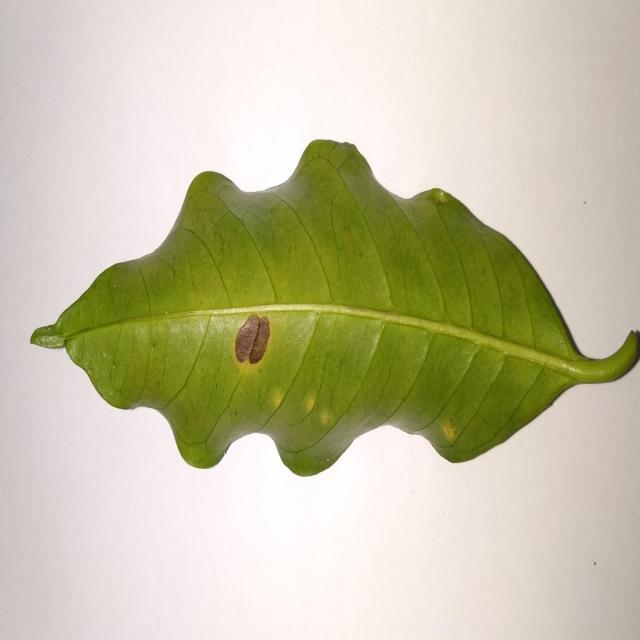Enfermedad-Mancha-de-hierro: (29, 141, 640, 481)
